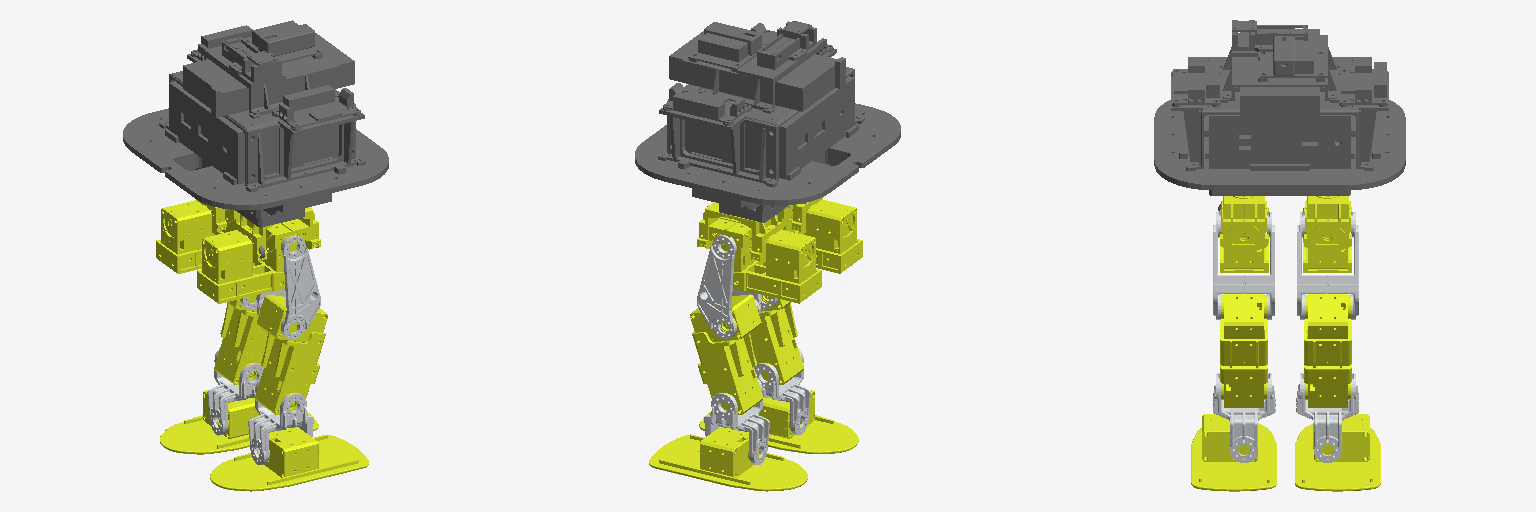
robot.urdf — exhx5_w_b_16:
<?xml version="1.0" encoding="utf-8"?>
<!-- This URDF was automatically created by SolidWorks to URDF Exporter! Originally created by [author] ([email redacted]) 
     Commit Version: 1.5.1-0-g916b5db  Build Version: 1.5.7152.31018
     For more information, please see http://wiki.ros.org/sw_urdf_exporter -->
<robot
  name="exhx5_w_b_16">
  <link
    name="body_link">
    <inertial>
      <origin
        xyz="0.00043545 0.00025536 0.10071"
        rpy="0 0 0" />
      <mass
        value="1.8238" />
      <inertia
        ixx="0.0025905"
        ixy="-5.6852E-06"
        ixz="-1.3106E-05"
        iyy="0.0024595"
        iyz="-1.261E-06"
        izz="0.0046407" />
    </inertial>
    <visual>
      <origin
        xyz="0 0 0"
        rpy="0 0 0" />
      <geometry>
        <mesh
          filename="../meshes/body_link.STL" />
      </geometry>
      <material
        name="">
        <color
          rgba="0.49804 0.49804 0.49804 1" />
      </material>
    </visual>
    <collision>
      <origin
        xyz="0 0 0"
        rpy="0 0 0" />
      <geometry>
        <mesh
          filename="../meshes/body_link.STL" />
      </geometry>
    </collision>
  </link>

  <link
    name="imu_link">
    <inertial>
      <origin
        xyz="-0.008387 1.336E-17 -0.0069463"
        rpy="0 0 0" />
      <mass
        value="0.0062931" />
      <inertia
        ixx="3.2242E-07"
        ixy="3.3527E-22"
        ixz="-6.9193E-08"
        iyy="9.2229E-07"
        iyz="-8.0392E-22"
        izz="1.1018E-06" />
    </inertial>
    <visual>
      <origin
        xyz="0 0 0"
        rpy="0 0 0" />
      <geometry>
        <mesh
          filename="../meshes/imu_link.STL" />
      </geometry>
      <material
        name="">
        <color
          rgba="0.79216 0.81961 0.93333 1" />
      </material>
    </visual>
    <collision>
      <origin
        xyz="0 0 0"
        rpy="0 0 0" />
      <geometry>
        <mesh
          filename="../meshes/imu_link.STL" />
      </geometry>
    </collision>
  </link>
  <joint
    name="imu"
    type="fixed">
    <origin
      xyz="0 0 0.0492"
      rpy="0 0 0" />
    <parent
      link="body_link" />
    <child
      link="imu_link" />
    <axis
      xyz="0 0 0" />
    <limit
      lower="-3.14"
      upper="3.14"
      effort="4"
      velocity="4" />
  </joint>
  <link
    name="l_hip_g_link">
    <inertial>
      <origin
        xyz="-0.0043797 -8.6604E-08 0.011813"
        rpy="0 0 0" />
      <mass
        value="0.061008" />
      <inertia
        ixx="1.167E-05"
        ixy="7.1767E-11"
        ixz="9.1442E-09"
        iyy="2.2342E-05"
        iyz="2.5177E-11"
        izz="2.4892E-05" />
    </inertial>
    <visual>
      <origin
        xyz="0 0 0"
        rpy="0 0 0" />
      <geometry>
        <mesh
          filename="../meshes/l_hip_g_link.STL" />
      </geometry>
      <material
        name="">
        <color
          rgba="0.9451 1 0.18431 1" />
      </material>
    </visual>
    <collision>
      <origin
        xyz="0 0 0"
        rpy="0 0 0" />
      <geometry>
        <mesh
          filename="../meshes/l_hip_g_link.STL" />
      </geometry>
    </collision>
  </link>
  <joint
    name="l_hip_g"
    type="fixed">
    <origin
      xyz=".003 .040 0"
      rpy="0 0 0" />
    <parent
      link="body_link" />
    <child
      link="l_hip_g_link" />
    <axis
      xyz="0 0 0" />
  </joint>
  <link
    name="l_hip_roll_link">
    <inertial>
      <origin
        xyz="0.013831 0.00033457 0.025453"
        rpy="0 0 0" />
      <mass
        value="0.2969" />
      <inertia
        ixx="7.8136E-05"
        ixy="7.265E-07"
        ixz="-6.9809E-08"
        iyy="9.2183E-05"
        iyz="-5.6881E-11"
        izz="7.1034E-05" />
    </inertial>
    <visual>
      <origin
        xyz="0 0 0"
        rpy="0 0 0" />
      <geometry>
        <mesh
          filename="../meshes/l_hip_roll_link.STL" />
      </geometry>
      <material
        name="">
        <color
          rgba="0.9451 1 0.18431 1" />
      </material>
    </visual>
    <collision>
      <origin
        xyz="0 0 0"
        rpy="0 0 0" />
      <geometry>
        <mesh
          filename="../meshes/l_hip_roll_link.STL" />
      </geometry>
    </collision>
  </link>
  <joint
    name="l_hip_roll"
    type="revolute">
    <origin
      xyz="0 0 0"
      rpy="3.1416 1.5708 0" />
    <parent
      link="l_hip_g_link" />
    <child
      link="l_hip_roll_link" />
    <axis
      xyz="0 0 1" />
    <limit
      lower="-3.14"
      upper="3.14"
      effort="4"
      velocity="4" />
  </joint>
  <link
    name="l_hip_pitch_link">
    <inertial>
      <origin
        xyz="0.041225 -0.007321 -5.0713E-08"
        rpy="0 0 0" />
      <mass
        value="0.051592" />
      <inertia
        ixx="2.7959E-05"
        ixy="2.0752E-06"
        ixz="-8.0934E-11"
        iyy="4.8156E-05"
        iyz="3.6317E-11"
        izz="2.9604E-05" />
    </inertial>
    <visual>
      <origin
        xyz="0 0 0"
        rpy="0 0 0" />
      <geometry>
        <mesh
          filename="../meshes/l_hip_pitch_link.STL" />
      </geometry>
      <material
        name="">
        <color
          rgba="0.89804 0.91765 0.92941 1" />
      </material>
    </visual>
    <collision>
      <origin
        xyz="0 0 0"
        rpy="0 0 0" />
      <geometry>
        <mesh
          filename="../meshes/l_hip_pitch_link.STL" />
      </geometry>
    </collision>
  </link>
  <joint
    name="l_hip_pitch"
    type="revolute">
    <origin
      xyz="0 0 0"
      rpy="1.5708 0 0" />
    <parent
      link="l_hip_roll_link" />
    <child
      link="l_hip_pitch_link" />
    <axis
      xyz="0 0 1" />
    <limit
      lower="-3.14"
      upper="3.14"
      effort="4"
      velocity="4" />
  </joint>
  <link
    name="l_knee_link">
    <inertial>
      <origin
        xyz="0.033756 -0.0084189 -6.6115E-09"
        rpy="0 0 0" />
      <mass
        value="0.28878" />
      <inertia
        ixx="6.6724E-05"
        ixy="7.5004E-07"
        ixz="-8.4578E-07"
        iyy="6.5699E-05"
        iyz="4.1085E-07"
        izz="7.0381E-05" />
    </inertial>
    <visual>
      <origin
        xyz="0 0 0"
        rpy="0 0 0" />
      <geometry>
        <mesh
          filename="../meshes/l_knee_link.STL" />
      </geometry>
      <material
        name="">
        <color
          rgba="0.9451 1 0.18431 1" />
      </material>
    </visual>
    <collision>
      <origin
        xyz="0 0 0"
        rpy="0 0 0" />
      <geometry>
        <mesh
          filename="../meshes/l_knee_link.STL" />
      </geometry>
    </collision>
  </link>
  <joint
    name="l_knee"
    type="revolute">
    <origin
      xyz="0.075954 0 0"
      rpy="0 0 0" />
    <parent
      link="l_hip_pitch_link" />
    <child
      link="l_knee_link" />
    <axis
      xyz="0 0 1" />
    <limit
      lower="-3.14"
      upper="3.14"
      effort="4"
      velocity="4" />
  </joint>
  <link
    name="l_ank_pitch_link">
    <inertial>
      <origin
        xyz="0.022786 -7.3909E-09 -7.1981E-06"
        rpy="0 0 0" />
      <mass
        value="0.044772" />
      <inertia
        ixx="1.777E-05"
        ixy="8.555E-14"
        ixz="-3.3713E-09"
        iyy="1.7119E-05"
        iyz="1.7593E-11"
        izz="1.8661E-05" />
    </inertial>
    <visual>
      <origin
        xyz="0 0 0"
        rpy="0 0 0" />
      <geometry>
        <mesh
          filename="../meshes/l_ank_pitch_link.STL" />
      </geometry>
      <material
        name="">
        <color
          rgba="0.89804 0.91765 0.92941 1" />
      </material>
    </visual>
    <collision>
      <origin
        xyz="0 0 0"
        rpy="0 0 0" />
      <geometry>
        <mesh
          filename="../meshes/l_ank_pitch_link.STL" />
      </geometry>
    </collision>
  </link>
  <joint
    name="l_ank_pitch"
    type="revolute">
    <origin
      xyz="0.074602 0 0"
      rpy="3.1416 0 0" />
    <parent
      link="l_knee_link" />
    <child
      link="l_ank_pitch_link" />
    <axis
      xyz="0 0 1" />
    <limit
      lower="-3.14"
      upper="3.14"
      effort="4"
      velocity="4" />
  </joint>
  <link
    name="l_ank_roll_link">
    <inertial>
      <origin
        xyz="0.0047069 0.010728 0.0015299"
        rpy="0 0 0" />
      <mass
        value="0.16774" />
      <inertia
        ixx="0.00012039"
        ixy="-3.7428E-09"
        ixz="4.4069E-08"
        iyy="8.7735E-05"
        iyz="7.0469E-07"
        izz="4.7866E-05" />
    </inertial>
    <visual>
      <origin
        xyz="0 0 0"
        rpy="0 0 0" />
      <geometry>
        <mesh
          filename="../meshes/l_ank_roll_link.STL" />
      </geometry>
      <material
        name="">
        <color
          rgba="0.9451 1 0.18431 1" />
      </material>
    </visual>
    <collision>
      <origin
        xyz="0 0 0"
        rpy="0 0 0" />
      <geometry>
        <mesh
          filename="../meshes/l_ank_roll_link.STL" />
      </geometry>
    </collision>
  </link>
  <joint
    name="l_ank_roll"
    type="revolute">
    <origin
      xyz="0.0465 0 0"
      rpy="-1.5708 0 0" />
    <parent
      link="l_ank_pitch_link" />
    <child
      link="l_ank_roll_link" />
    <axis
      xyz="0 0 1" />
    <limit
      lower="-3.14"
      upper="3.14"
      effort="4"
      velocity="4" />
  </joint>
  <link
    name="r_hip_g_link">
    <inertial>
      <origin
        xyz="-0.0043797 -8.6604E-08 0.011813"
        rpy="0 0 0" />
      <mass
        value="0.061008" />
      <inertia
        ixx="1.167E-05"
        ixy="7.1767E-11"
        ixz="9.1442E-09"
        iyy="2.2342E-05"
        iyz="2.5177E-11"
        izz="2.4892E-05" />
    </inertial>
    <visual>
      <origin
        xyz="0 0 0"
        rpy="0 0 0" />
      <geometry>
        <mesh
          filename="../meshes/r_hip_g_link.STL" />
      </geometry>
      <material
        name="">
        <color
          rgba="0.9451 1 0.18431 1" />
      </material>
    </visual>
    <collision>
      <origin
        xyz="0 0 0"
        rpy="0 0 0" />
      <geometry>
        <mesh
          filename="../meshes/r_hip_g_link.STL" />
      </geometry>
    </collision>
  </link>
  <joint
    name="r_hip_g"
    type="fixed">
    <origin
      xyz=".003 -.030 0"
      rpy="0 0 0" />
    <parent
      link="body_link" />
    <child
      link="r_hip_g_link" />
    <axis
      xyz="0 0 0" />
  </joint>
  <link
    name="r_hip_roll_link">
    <inertial>
      <origin
        xyz="0.013831 0.00033457 0.025453"
        rpy="0 0 0" />
      <mass
        value="0.2969" />
      <inertia
        ixx="7.8136E-05"
        ixy="7.265E-07"
        ixz="-6.9809E-08"
        iyy="9.2183E-05"
        iyz="-5.6881E-11"
        izz="7.1034E-05" />
    </inertial>
    <visual>
      <origin
        xyz="0 0 0"
        rpy="0 0 0" />
      <geometry>
        <mesh
          filename="../meshes/r_hip_roll_link.STL" />
      </geometry>
      <material
        name="">
        <color
          rgba="0.9451 1 0.18431 1" />
      </material>
    </visual>
    <collision>
      <origin
        xyz="0 0 0"
        rpy="0 0 0" />
      <geometry>
        <mesh
          filename="../meshes/r_hip_roll_link.STL" />
      </geometry>
    </collision>
  </link>
  <joint
    name="r_hip_roll"
    type="revolute">
    <origin
      xyz="0 0 0"
      rpy="3.1416 1.5708 0" />
    <parent
      link="r_hip_g_link" />
    <child
      link="r_hip_roll_link" />
    <axis
      xyz="0 0 1" />
    <limit
      lower="-3.14"
      upper="3.14"
      effort="4"
      velocity="4" />
  </joint>
  <link
    name="r_hip_pitch_link">
    <inertial>
      <origin
        xyz="0.041225 0.007321 5.0713E-08"
        rpy="0 0 0" />
      <mass
        value="0.051592" />
      <inertia
        ixx="2.7959E-05"
        ixy="-2.0752E-06"
        ixz="8.0934E-11"
        iyy="4.8156E-05"
        iyz="3.6317E-11"
        izz="2.9604E-05" />
    </inertial>
    <visual>
      <origin
        xyz="0 0 0"
        rpy="0 0 0" />
      <geometry>
        <mesh
          filename="../meshes/r_hip_pitch_link.STL" />
      </geometry>
      <material
        name="">
        <color
          rgba="0.89804 0.91765 0.92941 1" />
      </material>
    </visual>
    <collision>
      <origin
        xyz="0 0 0"
        rpy="0 0 0" />
      <geometry>
        <mesh
          filename="../meshes/r_hip_pitch_link.STL" />
      </geometry>
    </collision>
  </link>
  <joint
    name="r_hip_pitch"
    type="revolute">
    <origin
      xyz="0 0 0"
      rpy="-1.5708 0 0" />
    <parent
      link="r_hip_roll_link" />
    <child
      link="r_hip_pitch_link" />
    <axis
      xyz="0 0 1" />
    <limit
      lower="-3.14"
      upper="3.14"
      effort="4"
      velocity="4" />
  </joint>
  <link
    name="r_knee_link">
    <inertial>
      <origin
        xyz="0.033757 0.0084176 6.6115E-09"
        rpy="0 0 0" />
      <mass
        value="0.28878" />
      <inertia
        ixx="6.6724E-05"
        ixy="-7.5008E-07"
        ixz="8.458E-07"
        iyy="6.5699E-05"
        iyz="4.1081E-07"
        izz="7.0381E-05" />
    </inertial>
    <visual>
      <origin
        xyz="0 0 0"
        rpy="0 0 0" />
      <geometry>
        <mesh
          filename="../meshes/r_knee_link.STL" />
      </geometry>
      <material
        name="">
        <color
          rgba="0.9451 1 0.18431 1" />
      </material>
    </visual>
    <collision>
      <origin
        xyz="0 0 0"
        rpy="0 0 0" />
      <geometry>
        <mesh
          filename="../meshes/r_knee_link.STL" />
      </geometry>
    </collision>
  </link>
  <joint
    name="r_knee"
    type="revolute">
    <origin
      xyz="0.075954 0 0"
      rpy="0 0 0" />
    <parent
      link="r_hip_pitch_link" />
    <child
      link="r_knee_link" />
    <axis
      xyz="0 0 1" />
    <limit
      lower="-3.14"
      upper="3.14"
      effort="4"
      velocity="4" />
  </joint>
  <link
    name="r_ank_pitch_link">
    <inertial>
      <origin
        xyz="0.025786 -7.3887E-09 -7.1981E-06"
        rpy="0 0 0" />
      <mass
        value="0.044772" />
      <inertia
        ixx="1.777E-05"
        ixy="8.5434E-14"
        ixz="-3.3713E-09"
        iyy="1.7119E-05"
        iyz="1.7592E-11"
        izz="1.8661E-05" />
    </inertial>
    <visual>
      <origin
        xyz="0 0 0"
        rpy="0 0 0" />
      <geometry>
        <mesh
          filename="../meshes/r_ank_pitch_link.STL" />
      </geometry>
      <material
        name="">
        <color
          rgba="0.89804 0.91765 0.92941 1" />
      </material>
    </visual>
    <collision>
      <origin
        xyz="0 0 0"
        rpy="0 0 0" />
      <geometry>
        <mesh
          filename="../meshes/r_ank_pitch_link.STL" />
      </geometry>
    </collision>
  </link>
  <joint
    name="r_ank_pitch"
    type="revolute">
    <origin
      xyz="0.071602 0 0"
      rpy="3.1416 0 0" />
    <parent
      link="r_knee_link" />
    <child
      link="r_ank_pitch_link" />
    <axis
      xyz="0 0 1" />
    <limit
      lower="-3.14"
      upper="3.14"
      effort="4"
      velocity="4" />
  </joint>
  <link
    name="r_ank_roll_link">
    <inertial>
      <origin
        xyz="0.0077069 -0.010728 0.0015299"
        rpy="0 0 0" />
      <mass
        value="0.16774" />
      <inertia
        ixx="0.00012039"
        ixy="3.743E-09"
        ixz="4.407E-08"
        iyy="8.7735E-05"
        iyz="-7.0467E-07"
        izz="4.7866E-05" />
    </inertial>
    <visual>
      <origin
        xyz="0 0 0"
        rpy="0 0 0" />
      <geometry>
        <mesh
          filename="../meshes/r_ank_roll_link.STL" />
      </geometry>
      <material
        name="">
        <color
          rgba="0.9451 1 0.18431 1" />
      </material>
    </visual>
    <collision>
      <origin
        xyz="0 0 0"
        rpy="0 0 0" />
      <geometry>
        <mesh
          filename="../meshes/r_ank_roll_link.STL" />
      </geometry>
    </collision>
  </link>
  <joint
    name="r_ank_roll"
    type="revolute">
    <origin
      xyz="0.0465 0 0"
      rpy="1.5708 0 0" />
    <parent
      link="r_ank_pitch_link" />
    <child
      link="r_ank_roll_link" />
    <axis
      xyz="0 0 1" />
    <limit
      lower="-3.14"
      upper="3.14"
      effort="4"
      velocity="4" />
  </joint>
  <transmission name="r_hip_roll_tran">
    <type>transmission_interface/SimpleTransmission</type>
    <joint name="r_hip_roll">
      <hardwareInterface>hardware_interface/EffortJointInterface</hardwareInterface>
    </joint>
    <actuator name="r_hip_roll_motor">
      <hardwareInterface>hardware_interface/EffortJointInterface</hardwareInterface>
      <mechanicalReduction>1</mechanicalReduction>
    </actuator>
  </transmission>
  <transmission name="r_hip_pitch_tran">
    <type>transmission_interface/SimpleTransmission</type>
    <joint name="r_hip_pitch">
      <hardwareInterface>hardware_interface/EffortJointInterface</hardwareInterface>
    </joint>
    <actuator name="r_hip_pitch_motor">
      <hardwareInterface>hardware_interface/EffortJointInterface</hardwareInterface>
      <mechanicalReduction>1</mechanicalReduction>
    </actuator>
  </transmission>
  <transmission name="r_knee_tran">
    <type>transmission_interface/SimpleTransmission</type>
    <joint name="r_knee">
      <hardwareInterface>hardware_interface/EffortJointInterface</hardwareInterface>
    </joint>
    <actuator name="r_knee_motor">
      <hardwareInterface>hardware_interface/EffortJointInterface</hardwareInterface>
      <mechanicalReduction>1</mechanicalReduction>
    </actuator>
  </transmission>
  <transmission name="r_ank_pitch_tran">
    <type>transmission_interface/SimpleTransmission</type>
    <joint name="r_ank_pitch">
      <hardwareInterface>hardware_interface/EffortJointInterface</hardwareInterface>
    </joint>
    <actuator name="r_ank_pitch_motor">
      <hardwareInterface>hardware_interface/EffortJointInterface</hardwareInterface>
      <mechanicalReduction>1</mechanicalReduction>
    </actuator>
  </transmission>
  <transmission name="r_ank_roll_tran">
    <type>transmission_interface/SimpleTransmission</type>
    <joint name="r_ank_roll">
      <hardwareInterface>hardware_interface/EffortJointInterface</hardwareInterface>
    </joint>
    <actuator name="r_ank_roll_motor">
      <hardwareInterface>hardware_interface/EffortJointInterface</hardwareInterface>
      <mechanicalReduction>1</mechanicalReduction>
    </actuator>
  </transmission>
  <transmission name="l_hip_roll_tran">
    <type>transmission_interface/SimpleTransmission</type>
    <joint name="l_hip_roll">
      <hardwareInterface>hardware_interface/EffortJointInterface</hardwareInterface>
    </joint>
    <actuator name="l_hip_roll_motor">
      <hardwareInterface>hardware_interface/EffortJointInterface</hardwareInterface>
      <mechanicalReduction>1</mechanicalReduction>
    </actuator>
  </transmission>
  <transmission name="l_hip_pitch_tran">
    <type>transmission_interface/SimpleTransmission</type>
    <joint name="l_hip_pitch">
      <hardwareInterface>hardware_interface/EffortJointInterface</hardwareInterface>
    </joint>
    <actuator name="l_hip_pitch_motor">
      <hardwareInterface>hardware_interface/EffortJointInterface</hardwareInterface>
      <mechanicalReduction>1</mechanicalReduction>
    </actuator>
  </transmission>
  <transmission name="l_knee_tran">
    <type>transmission_interface/SimpleTransmission</type>
    <joint name="l_knee">
      <hardwareInterface>hardware_interface/EffortJointInterface</hardwareInterface>
    </joint>
    <actuator name="l_knee_motor">
      <hardwareInterface>hardware_interface/EffortJointInterface</hardwareInterface>
      <mechanicalReduction>1</mechanicalReduction>
    </actuator>
  </transmission>
  <transmission name="l_ank_pitch_tran">
    <type>transmission_interface/SimpleTransmission</type>
    <joint name="l_ank_pitch">
      <hardwareInterface>hardware_interface/EffortJointInterface</hardwareInterface>
    </joint>
    <actuator name="l_ank_pitch_motor">
      <hardwareInterface>hardware_interface/EffortJointInterface</hardwareInterface>
      <mechanicalReduction>1</mechanicalReduction>
    </actuator>
  </transmission>
  <transmission name="l_ank_roll_tran">
    <type>transmission_interface/SimpleTransmission</type>
    <joint name="l_ank_roll">
      <hardwareInterface>hardware_interface/EffortJointInterface</hardwareInterface>
    </joint>
    <actuator name="l_ank_roll_motor">
      <hardwareInterface>hardware_interface/EffortJointInterface</hardwareInterface>
      <mechanicalReduction>1</mechanicalReduction>
    </actuator>
  </transmission>
</robot>

--- Render facts (derived) ---
The picture shows the robot from 3 angles, left to right: view 1: azimuth 30°, elevation 25°; view 2: azimuth 150°, elevation 25°; view 3: azimuth 270°, elevation 25°; orthographic projection.
Model exhx5_w_b_16 with 14 links and 13 joints (10 revolute, 3 fixed), rooted at body_link, posed all joints at 0.
Links seen in each view (by area): view 1: body_link, r_ank_roll_link, r_hip_roll_link, r_knee_link, l_hip_roll_link, l_ank_roll_link, r_hip_pitch_link, l_knee_link, r_ank_pitch_link, l_ank_pitch_link, r_hip_g_link; view 2: body_link, l_ank_roll_link, l_hip_roll_link, l_knee_link, r_hip_roll_link, r_ank_roll_link, l_hip_pitch_link, r_knee_link, l_ank_pitch_link, r_ank_pitch_link, l_hip_g_link; view 3: body_link, r_knee_link, l_knee_link, r_ank_roll_link, l_ank_roll_link, l_hip_pitch_link, r_hip_pitch_link, l_hip_g_link, r_hip_g_link, l_ank_pitch_link, r_ank_pitch_link, l_hip_roll_link (+1 smaller).
Boxes of the visible links, bbox=[...] form: body_link: bbox=[123, 20, 388, 258]; r_ank_roll_link: bbox=[210, 427, 368, 491]; r_hip_roll_link: bbox=[197, 219, 309, 303]; r_knee_link: bbox=[255, 295, 327, 414]; l_hip_roll_link: bbox=[156, 200, 240, 273]; l_ank_roll_link: bbox=[160, 390, 318, 454]; r_hip_pitch_link: bbox=[257, 235, 320, 339]; l_knee_link: bbox=[214, 295, 267, 384]; r_ank_pitch_link: bbox=[248, 378, 313, 464]; l_ank_pitch_link: bbox=[207, 348, 263, 435]; r_hip_g_link: bbox=[236, 207, 320, 262]; body_link: bbox=[635, 21, 900, 222]; l_ank_roll_link: bbox=[649, 427, 807, 491]; l_hip_roll_link: bbox=[709, 217, 821, 303]; l_knee_link: bbox=[690, 294, 762, 414]; r_hip_roll_link: bbox=[777, 199, 862, 273]; r_ank_roll_link: bbox=[699, 390, 858, 453]; l_hip_pitch_link: bbox=[697, 234, 761, 338]; r_knee_link: bbox=[750, 295, 803, 384]; l_ank_pitch_link: bbox=[704, 378, 769, 464]; r_ank_pitch_link: bbox=[754, 348, 810, 434]; l_hip_g_link: bbox=[697, 202, 781, 262]; body_link: bbox=[1154, 20, 1405, 211]; r_knee_link: bbox=[1220, 294, 1267, 407]; l_knee_link: bbox=[1304, 294, 1351, 407]; r_ank_roll_link: bbox=[1191, 414, 1276, 491]; l_ank_roll_link: bbox=[1295, 414, 1380, 491]; l_hip_pitch_link: bbox=[1297, 212, 1358, 319]; r_hip_pitch_link: bbox=[1213, 212, 1274, 319]; l_hip_g_link: bbox=[1303, 196, 1351, 247]; r_hip_g_link: bbox=[1220, 196, 1268, 247]; l_ank_pitch_link: bbox=[1296, 373, 1358, 462]; r_ank_pitch_link: bbox=[1213, 373, 1275, 462]; l_hip_roll_link: bbox=[1303, 200, 1351, 272].
Size in the robot's own frame: 0.185 by 0.21 by 0.3893 metres.
14 mesh visuals loaded from 14 distinct referenced files (14 binary STL).